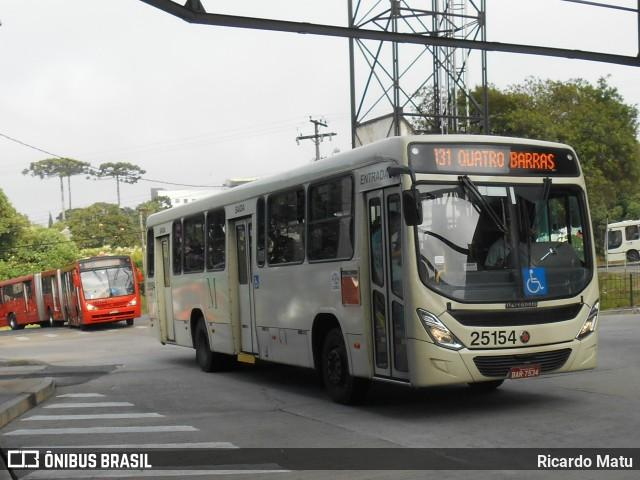QUATRO BARRAS: (453, 145, 557, 171)
